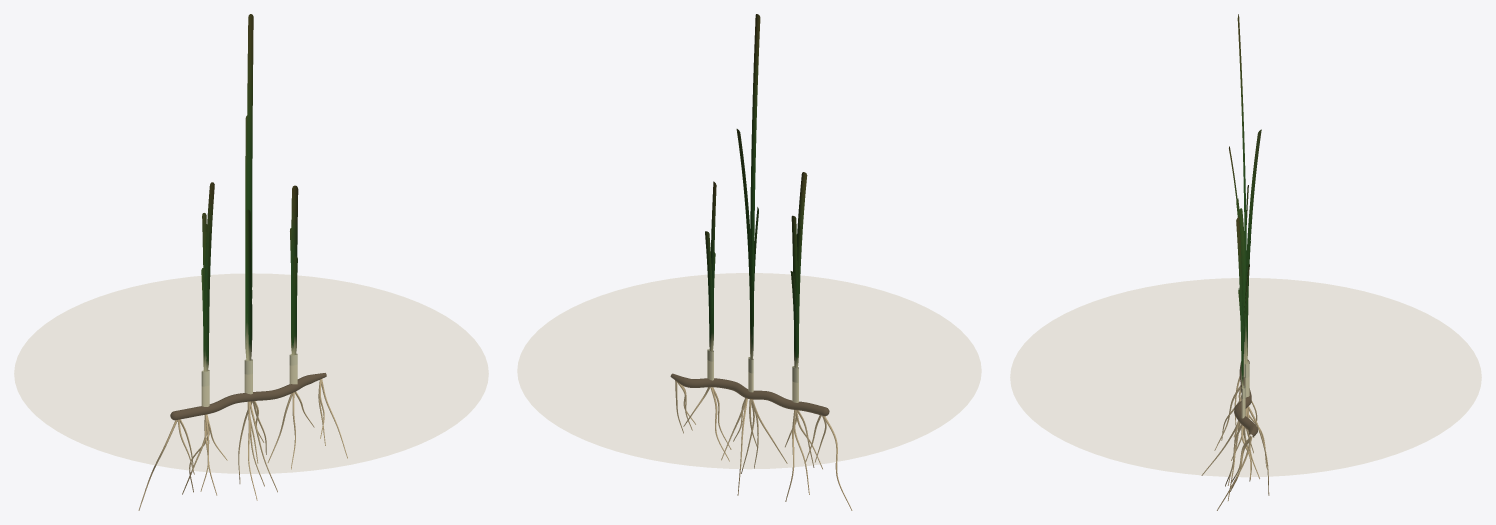
Rendered from enhalus-acoroides.glb.
3 renders of one model, left to right at view 1: azimuth 30°, elevation 25°; view 2: azimuth 150°, elevation 25°; view 3: azimuth 270°, elevation 25°, orthographic. The views are drawn at different scales.
Visible parts, largest first — view 1: Sediment, Leaves, Roots, Rhizome, LeafSheaths; view 2: Sediment, Leaves, Roots, Rhizome, LeafSheaths; view 3: Sediment, Leaves, Roots.
Part boxes in pixels (left/top/right/bottom): Sediment: left=14, top=273, right=488, bottom=473; Leaves: left=201, top=14, right=298, bottom=371; Roots: left=138, top=379, right=347, bottom=510; Rhizome: left=170, top=373, right=326, bottom=420; LeafSheaths: left=201, top=353, right=297, bottom=406; Sediment: left=517, top=273, right=981, bottom=468; Leaves: left=705, top=14, right=807, bottom=368; Roots: left=675, top=380, right=852, bottom=510; Rhizome: left=670, top=373, right=829, bottom=416; LeafSheaths: left=707, top=349, right=798, bottom=402; Sediment: left=1010, top=278, right=1481, bottom=476; Leaves: left=1229, top=14, right=1261, bottom=388; Roots: left=1201, top=376, right=1269, bottom=510.
Size of the model in its own units: 1.12 by 1.26 by 1.12.
Materials: 5 (1 with a texture image).
